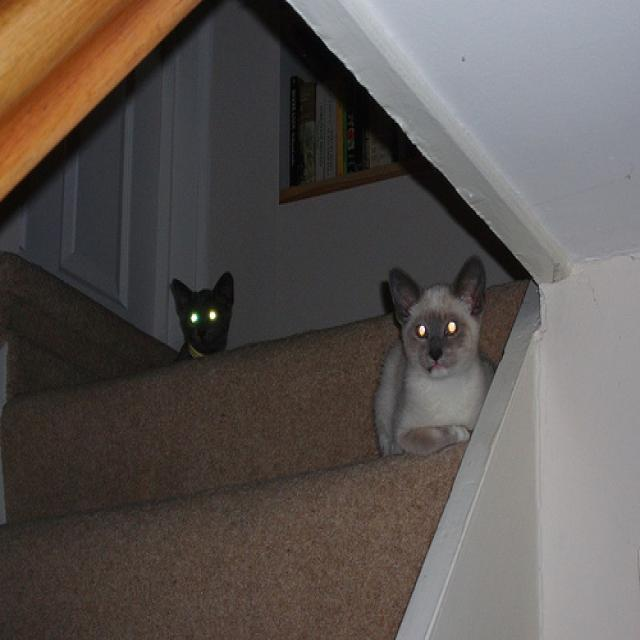Cat: (380, 258, 504, 468), (171, 242, 244, 367)
